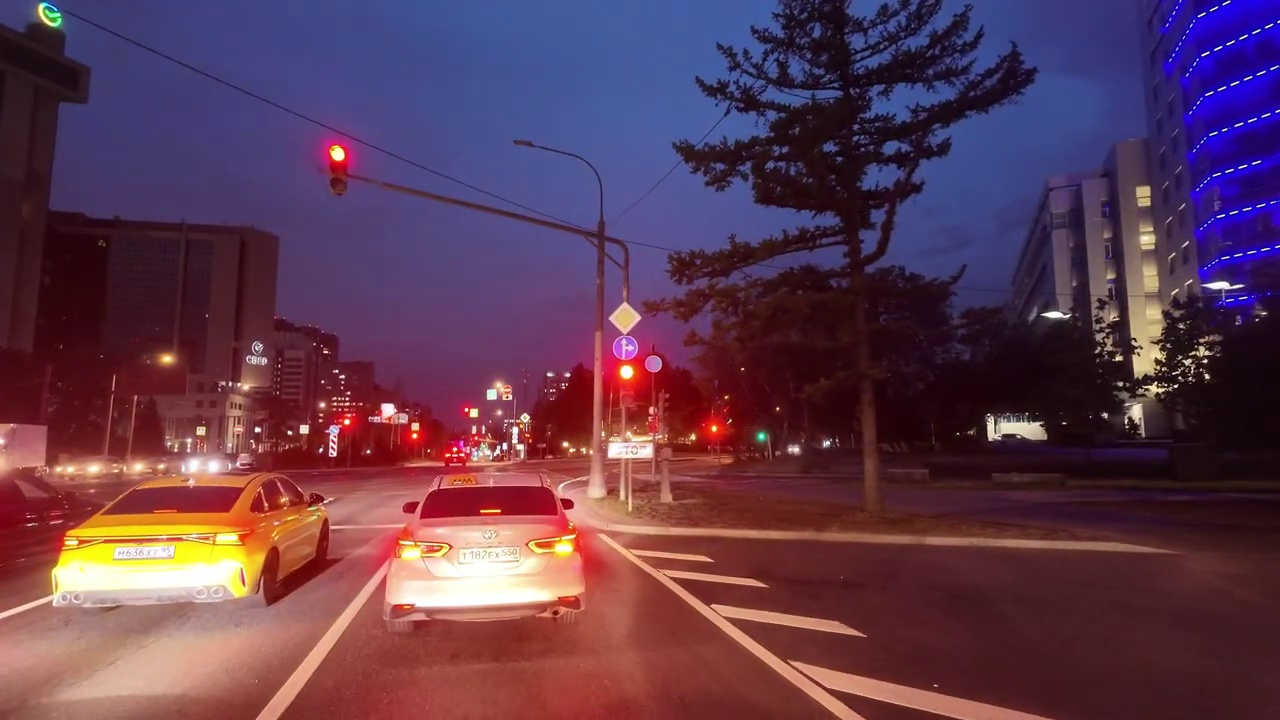acesa: (324, 140, 354, 173)
apagada: (509, 132, 541, 155)
